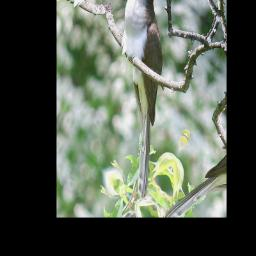Cuckoo: (66, 0, 214, 203)
